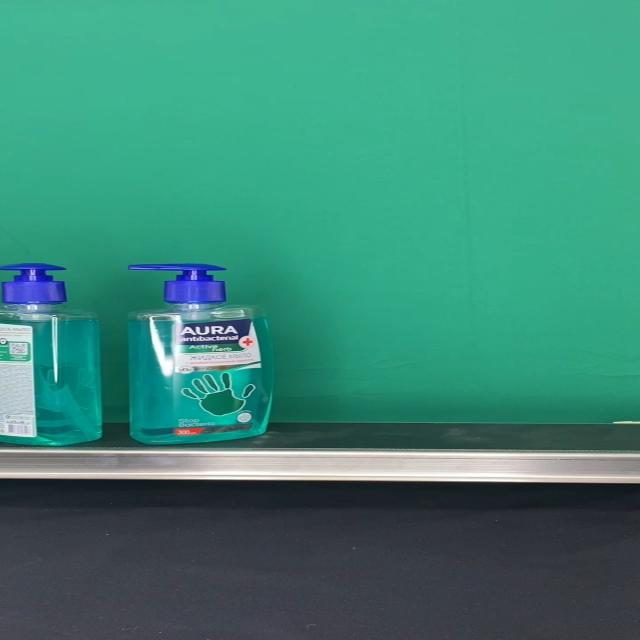Bottle: (126, 263, 275, 445), (0, 263, 103, 446)
Cap: (129, 264, 225, 306), (0, 264, 66, 306)
